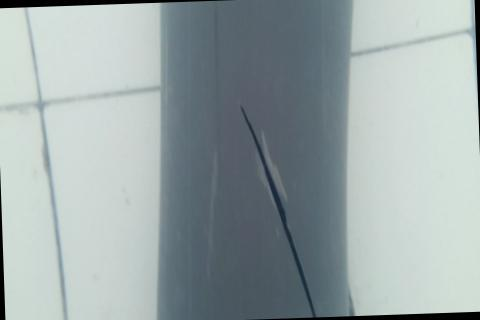keretakan: (239, 101, 319, 319)
